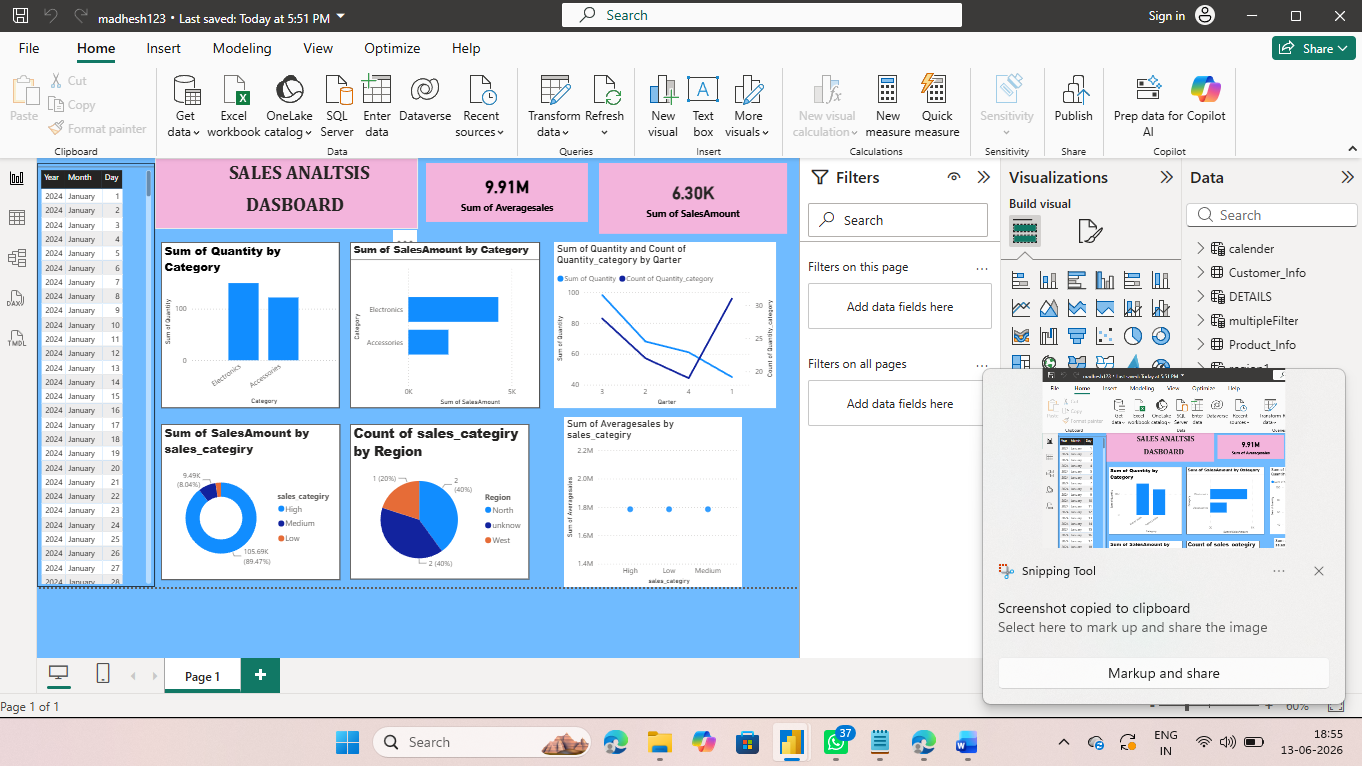

The page's visual inventory and layout, read from the dashboard file:
{"tool":"powerbi","page":{"name":"Page 1","canvas":[1280,720],"ordinal":0},"visuals":[{"type":"textbox","box":[198.2,0,441.8,119.3],"z":0},{"type":"card","fields":{"Values":["Sum(Sales_Data.Averagesales)"]},"box":[653.4,8.4,272.1,99.1],"z":1000},{"type":"columnChart","fields":{"Category":["Sales_Data.Category"],"Y":["Sum(Sales_Data.Quantity)"]},"box":[208.6,141.4,300,278.6],"z":2000},{"type":"tableEx","fields":{"Values":["Sales_Data.OrderDate.Variation.Date Hierarchy.Year","Sales_Data.OrderDate.Variation.Date Hierarchy.Month","Sales_Data.OrderDate.Variation.Date Hierarchy.Day"]},"box":[0,8.4,198.2,712.2],"z":3000},{"type":"donutChart","fields":{"Category":["Sales_Data.sales_categiry"],"Y":["Sum(Sales_Data.SalesAmount)"]},"box":[208.3,446.8,300.7,262],"z":4000},{"type":"pieChart","fields":{"Category":["top_oredr_id.Region"],"Y":["CountNonNull(top_oredr_id.sales_categiry)"]},"box":[525.7,447.1,301.4,261.4],"z":5000},{"type":"card","fields":{"Values":["Sum(top_oredr_id.SalesAmount)"]},"box":[944,8.4,315.8,119.3],"z":6000},{"type":"barChart","fields":{"Category":["top_oredr_id.Category"],"Y":["Sum(top_oredr_id.SalesAmount)"]},"box":[525.8,141.1,319.2,278.8],"z":7000},{"type":"lineChart","fields":{"Y":["Sum(Sales_Data.Quantity)"],"Category":["Sales_Data.Qarter"],"Y2":["CountNonNull(Sales_Data.Quantity_category)"]},"box":[868.5,141.1,372.9,278.8],"z":8000},{"type":"scatterChart","fields":{"X":["Sales_Data.sales_categiry"],"Y":["Sum(region2.Averagesales)"]},"box":[885.2,435.1,299,285.6],"z":9000}]}

Visuals, with their boxes on the page's 1280x720 design canvas (x1, y1, x2, y2). These are canvas units, not pixel positions in the 1362x766 screenshot, which may show the page scaled, cropped or inside an application window:
textbox: bbox(198, 0, 640, 119)
card - Sum(Sales_Data.Averagesales): bbox(653, 8, 926, 108)
columnChart - Sales_Data.Category x Sum(Sales_Data.Quantity): bbox(209, 141, 509, 420)
tableEx - Sales_Data.OrderDate.Variation.Date Hierarchy.Year x Sales_Data.OrderDate.Variation.Date Hierarchy.Month: bbox(0, 8, 198, 721)
donutChart - Sales_Data.sales_categiry x Sum(Sales_Data.SalesAmount): bbox(208, 447, 509, 709)
pieChart - top_oredr_id.Region x CountNonNull(top_oredr_id.sales_categiry): bbox(526, 447, 827, 708)
card - Sum(top_oredr_id.SalesAmount): bbox(944, 8, 1260, 128)
barChart - top_oredr_id.Category x Sum(top_oredr_id.SalesAmount): bbox(526, 141, 845, 420)
lineChart - Sum(Sales_Data.Quantity) x Sales_Data.Qarter: bbox(868, 141, 1241, 420)
scatterChart - Sales_Data.sales_categiry x Sum(region2.Averagesales): bbox(885, 435, 1184, 721)
